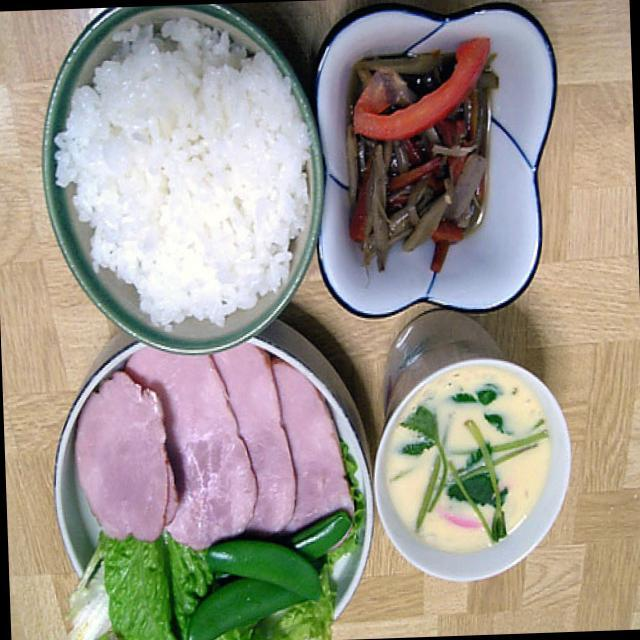Rice: (59, 14, 308, 337)
